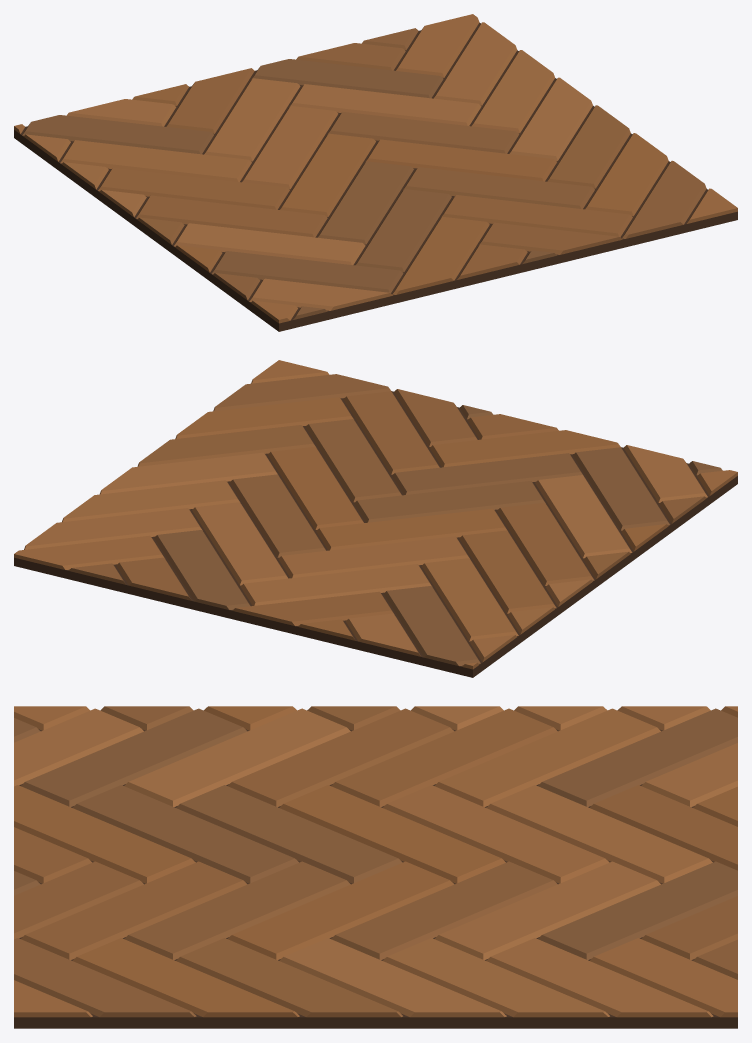
File: concert-hall-floor-tile-c35ae9.glb
The picture shows the model from 3 angles, top to bottom: view 1: azimuth 30°, elevation 25°; view 2: azimuth 150°, elevation 25°; view 3: azimuth 270°, elevation 25°; orthographic projection. The views are drawn at different scales.
Parts seen in each view (by area): view 1: floor-tile; view 2: floor-tile; view 3: floor-tile.
Boxes of the visible parts, x1,y1,x2,y2 form: floor-tile: (14, 14, 737, 331); floor-tile: (14, 360, 737, 677); floor-tile: (14, 706, 737, 1028).
Bounding box in the file's own units: 2 × 0.05 × 2.
